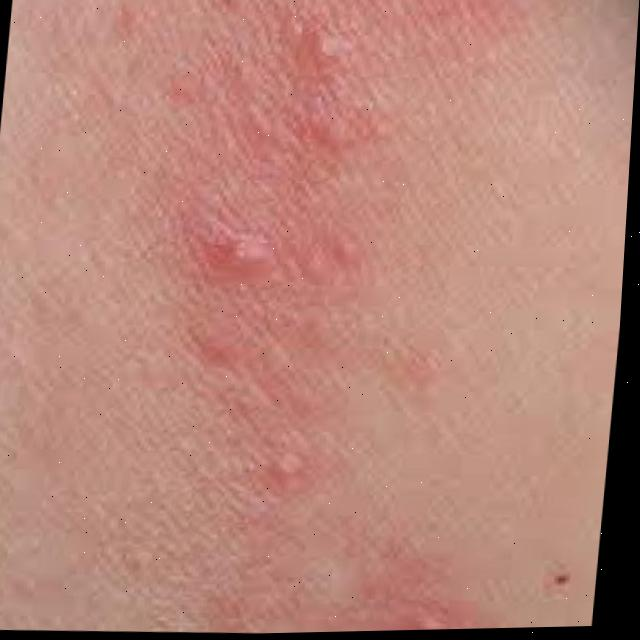Eczema: (123, 0, 524, 636)
